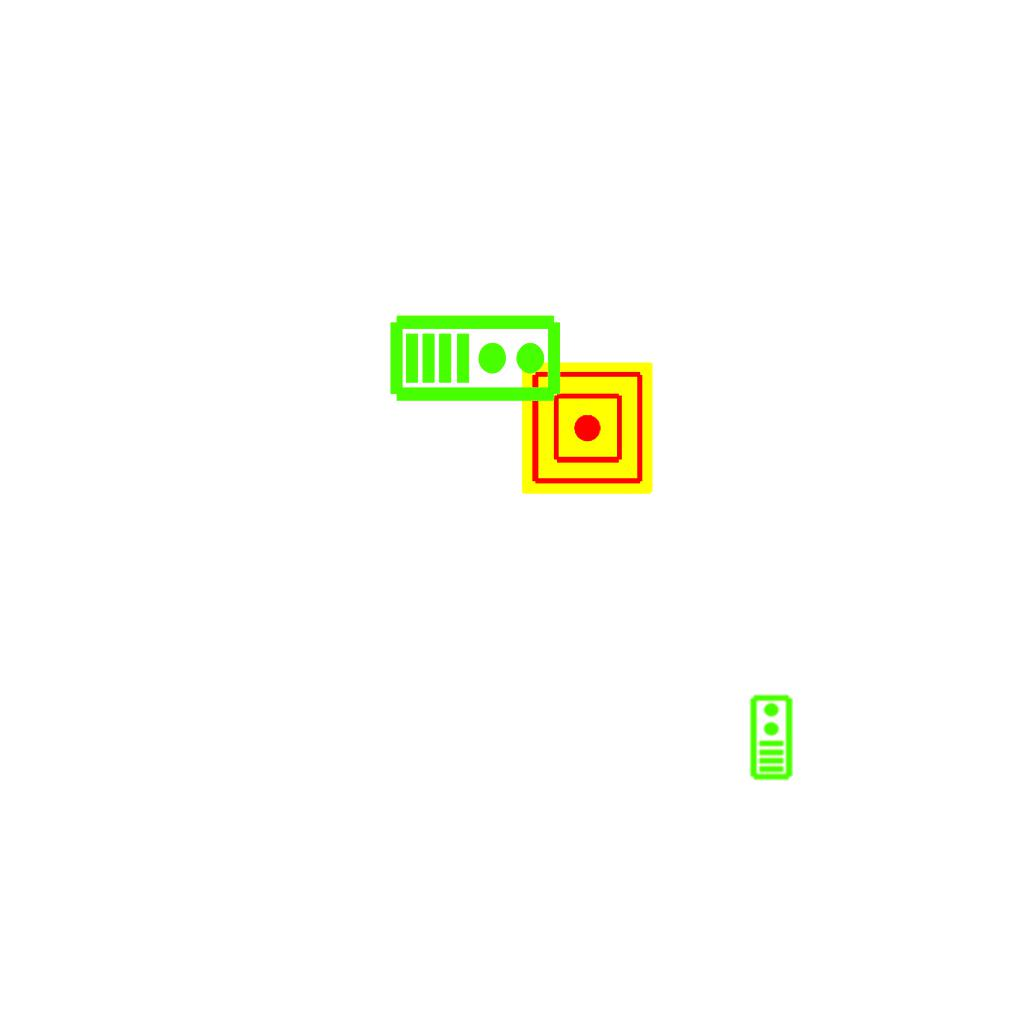Gegensprechanlage_mit_Video: (388, 309, 564, 404), (747, 693, 794, 781)
NAM-Nichtautomatischer_Melder: (521, 362, 653, 494)
